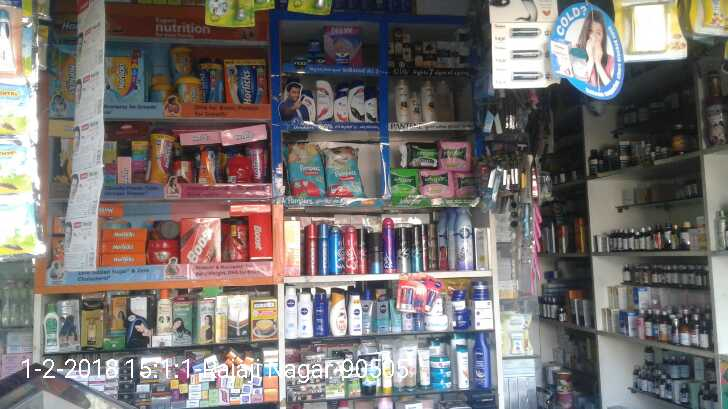beauty: (344, 78, 365, 125), (395, 75, 413, 125), (420, 75, 436, 127), (313, 79, 332, 122), (422, 35, 437, 68), (335, 90, 349, 124), (366, 90, 380, 123), (437, 38, 451, 68), (452, 40, 460, 66)
pharmacy: (286, 140, 325, 197), (326, 147, 364, 197), (440, 141, 475, 172), (420, 168, 454, 199), (391, 168, 418, 195), (407, 143, 434, 167), (455, 169, 476, 196), (334, 49, 353, 69), (304, 31, 319, 49), (314, 49, 326, 67)
